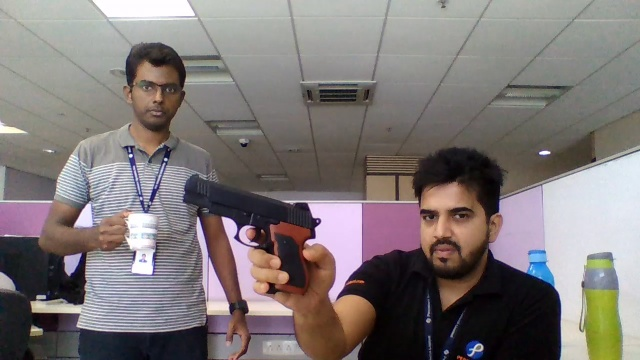gun: (182, 171, 322, 242)
